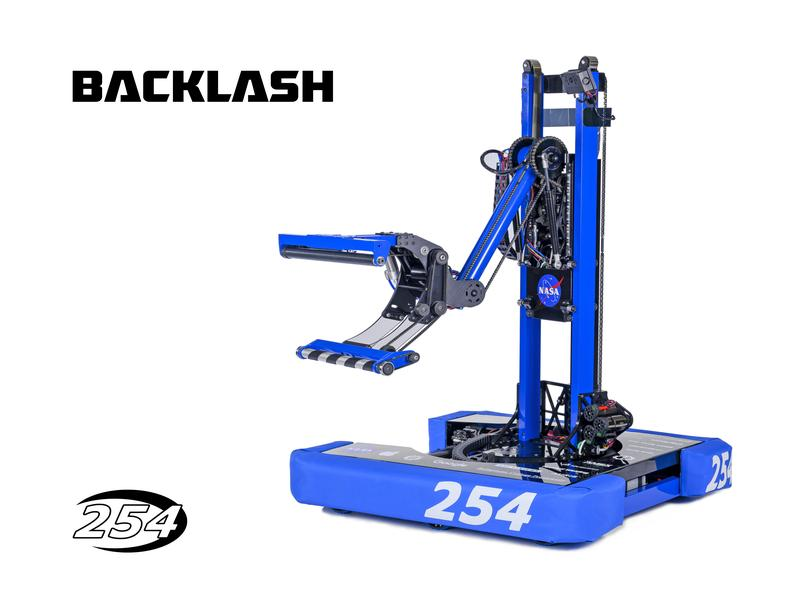robot: (288, 43, 739, 550)
